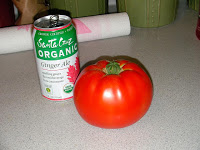tomato: (74, 60, 152, 128)
